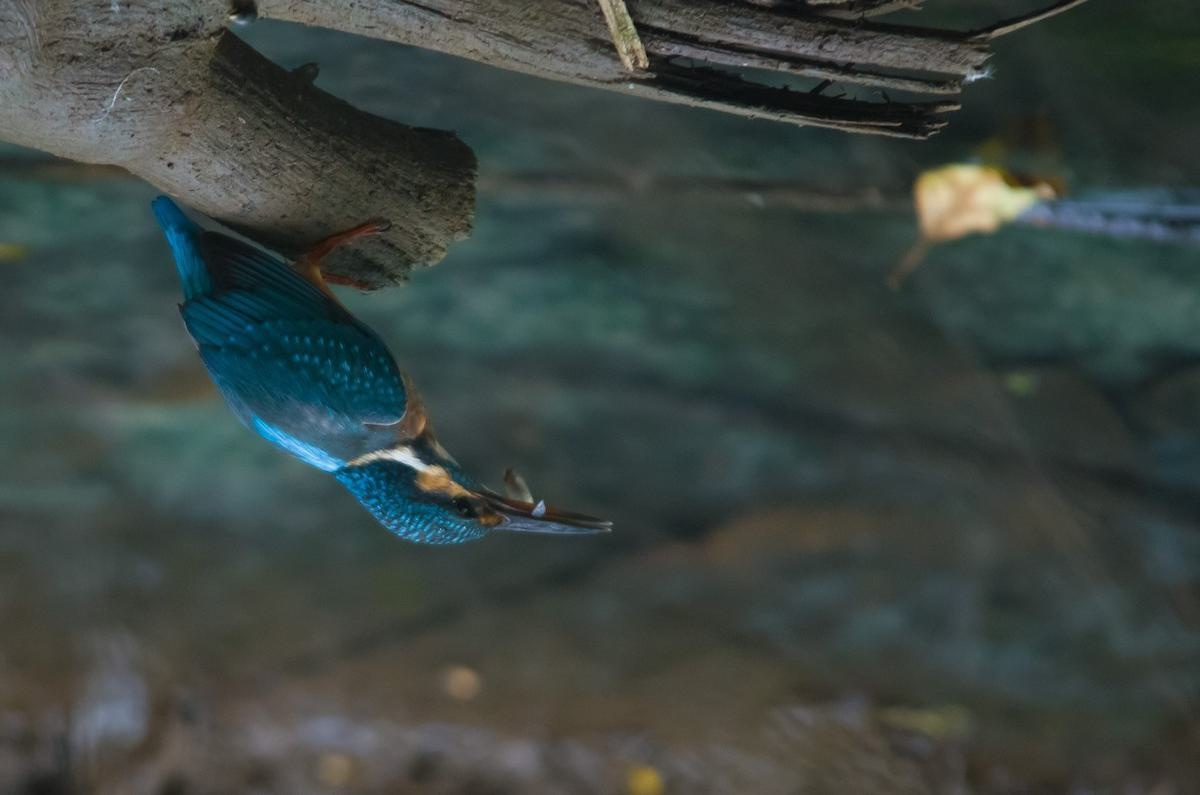kingfisher: (161, 192, 630, 581)
